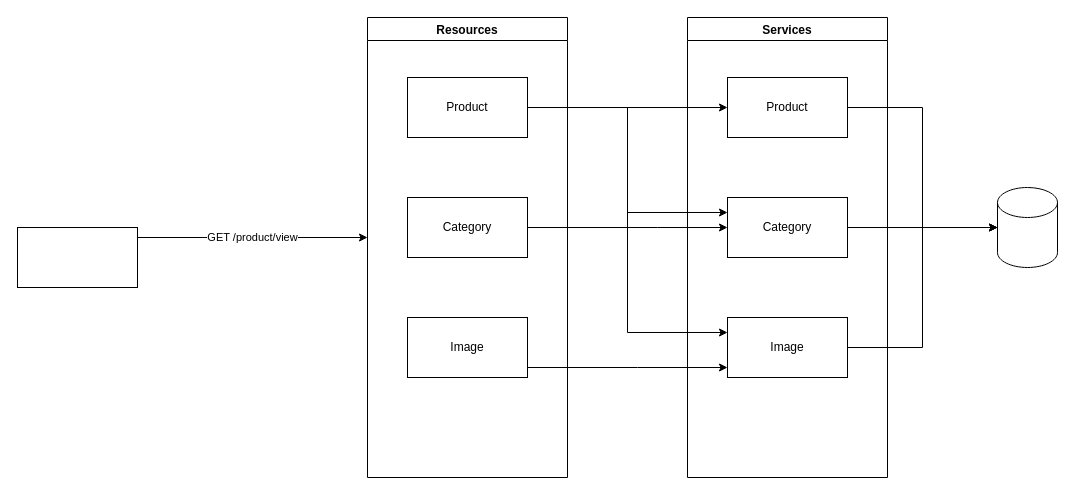
Some shapes in this 1075 by 495 pixel diagram are drawn without their labels. The box of each missing label's shape, as (x1, y1, x2, y2) in pixels:
Client: (16, 226, 138, 288)
Database: (996, 186, 1058, 268)
